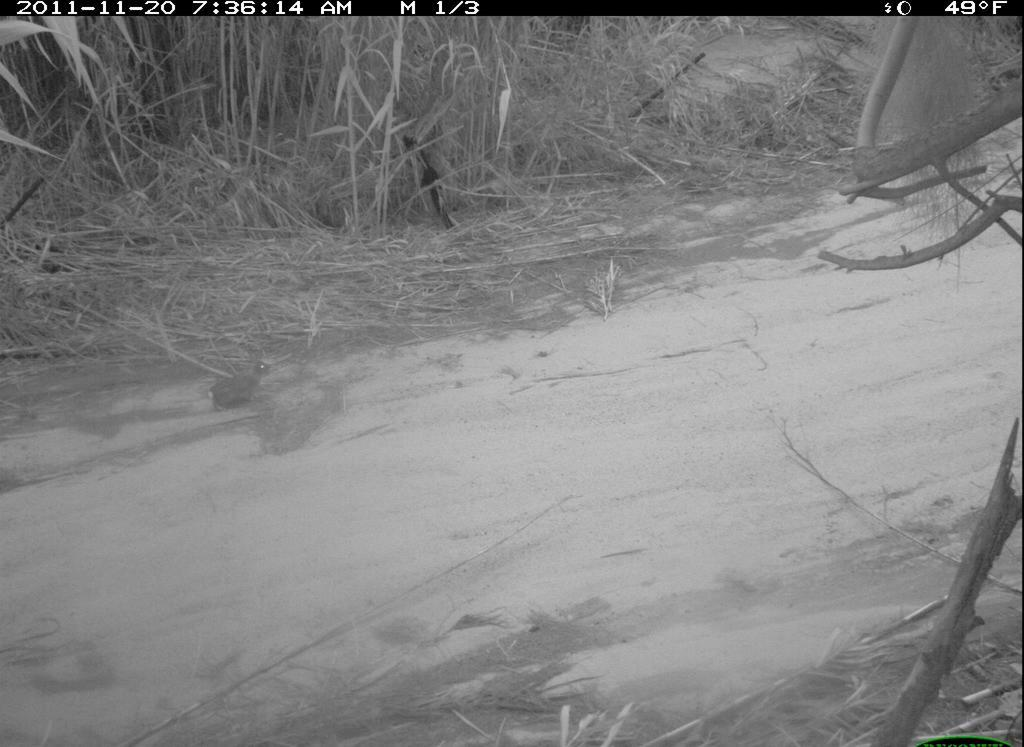rabbit: (204, 341, 280, 414)
